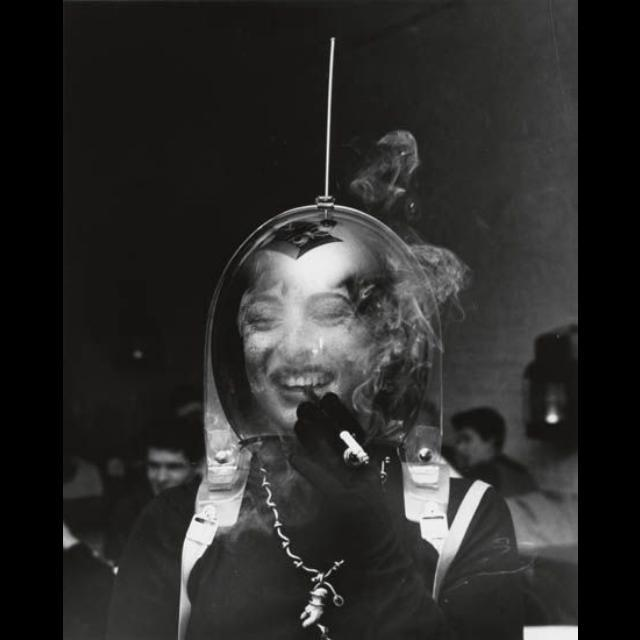rokok: (335, 426, 375, 466)
